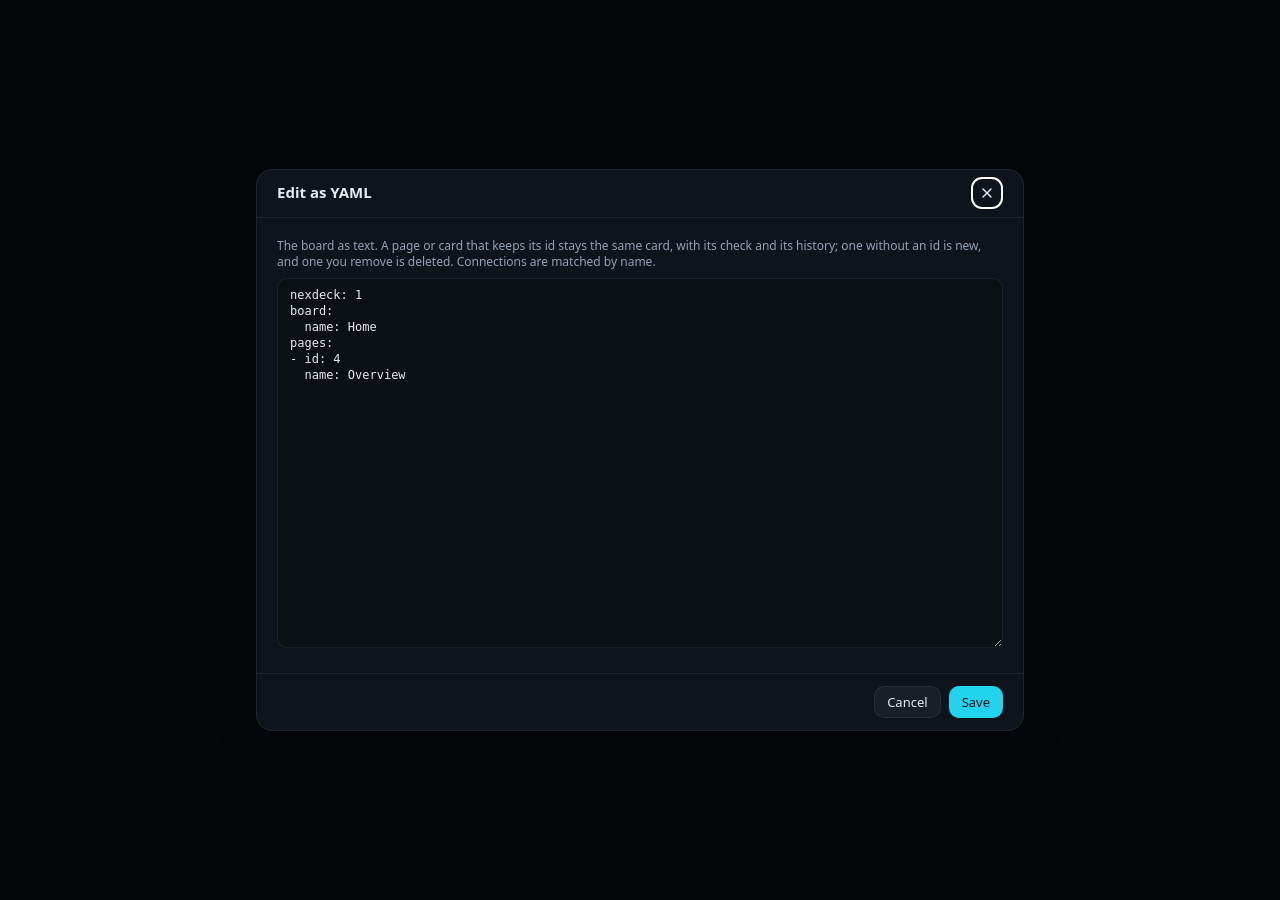
BoardYamlDialog › stays open and says why when the text will not do
Click the button "Save".
click(976, 702)  # box x1=949 y1=686 x2=1003 y2=718
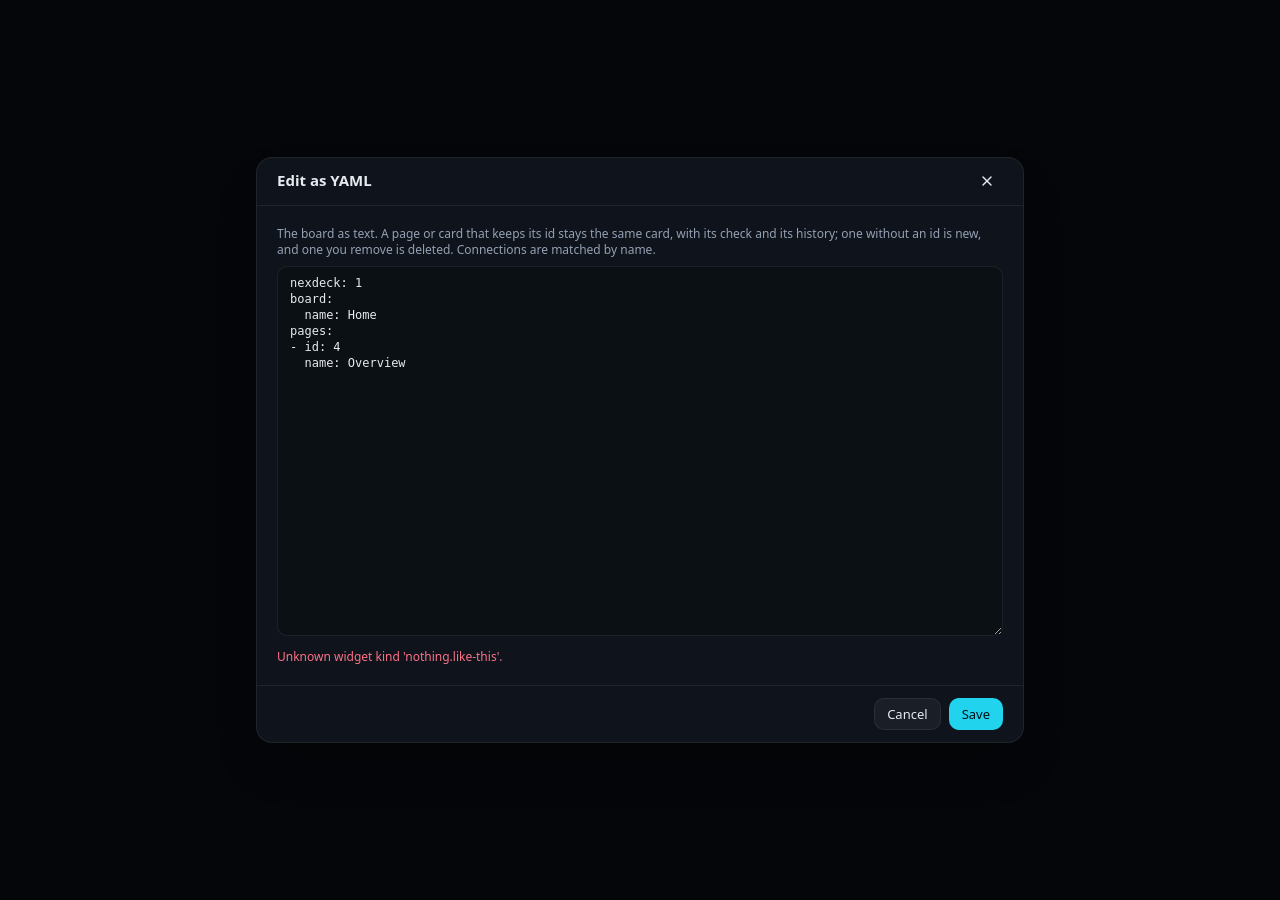
expect the message shows "nothing.like-this": met, box x1=277 y1=648 x2=502 y2=665
